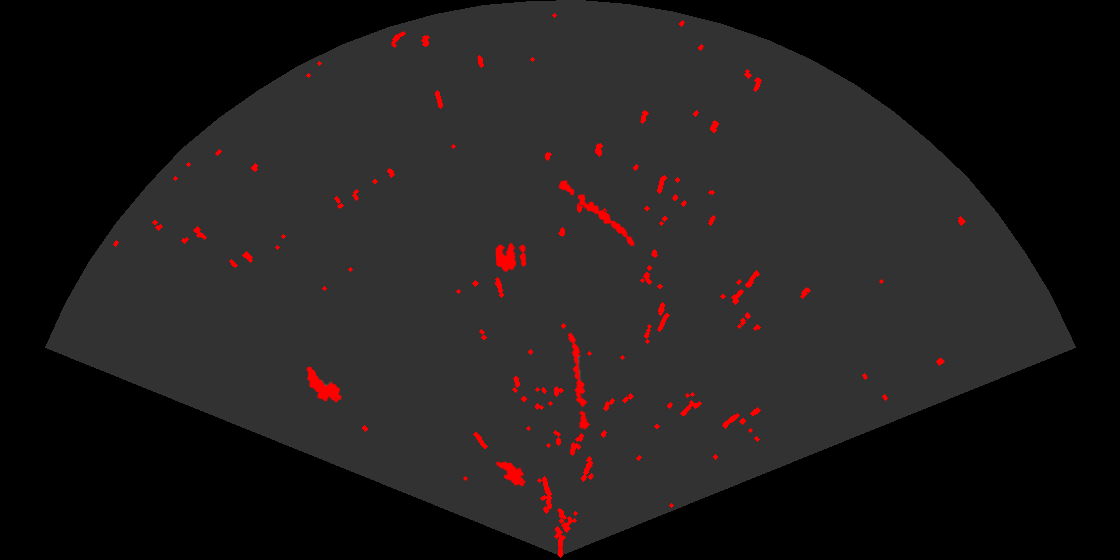AUV: (305, 365, 343, 404), (494, 460, 527, 488)
ball: (494, 241, 528, 273)
chain: (557, 178, 636, 248), (566, 331, 592, 430)
